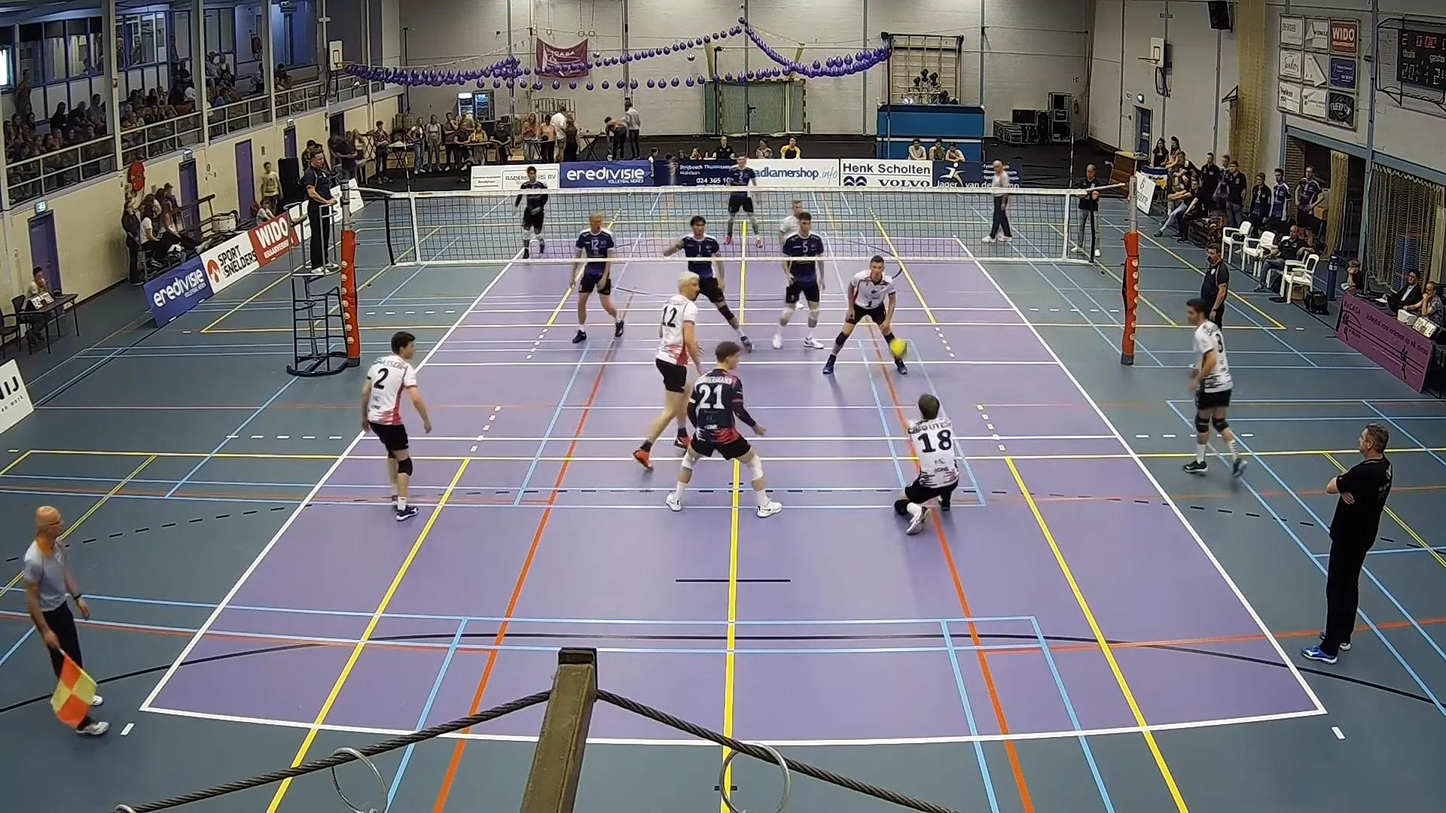ricezione: (886, 391, 970, 543)
